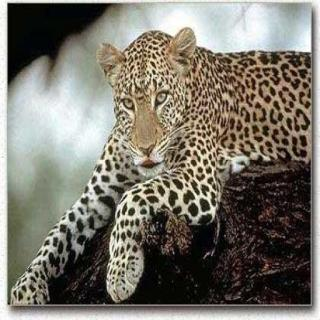Leopard: (85, 28, 320, 228)
